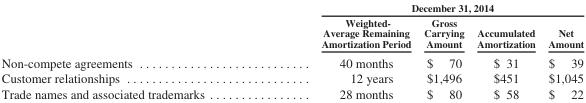table: (0, 1, 583, 100)
table column: (0, 1, 262, 100), (262, 1, 416, 100), (469, 1, 541, 100), (416, 1, 469, 100), (541, 1, 583, 100)
table column header: (0, 1, 583, 52)
table row: (0, 14, 583, 52), (0, 52, 583, 70), (0, 70, 583, 85), (0, 85, 583, 100), (0, 1, 583, 14)
table spanning cell: (262, 1, 583, 14)
